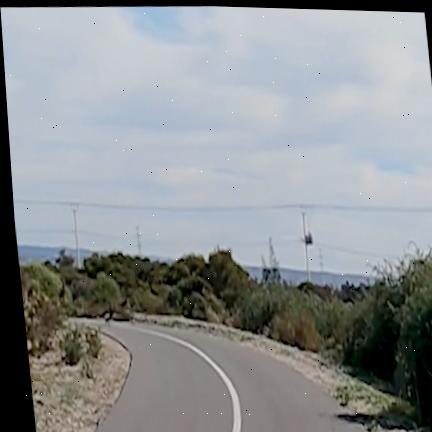Bike_Lane: (95, 322, 367, 432)
